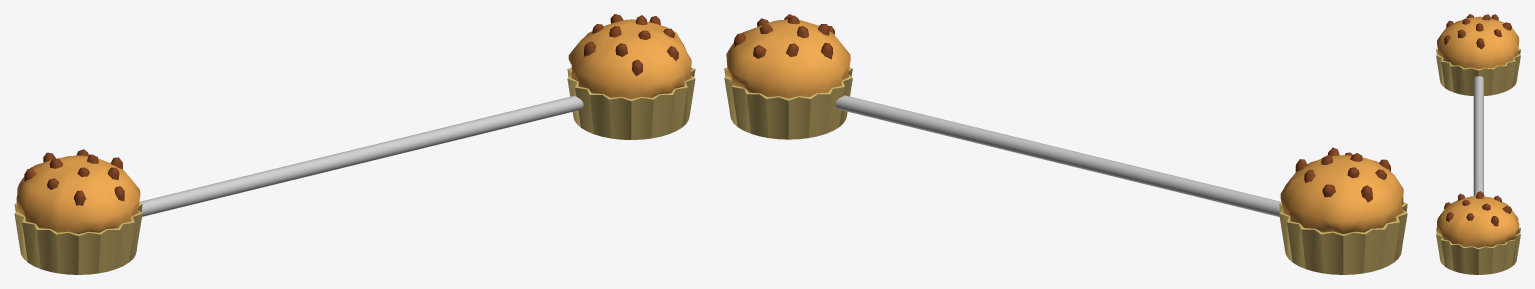
3 views of the same model, side by side, from view 1: azimuth 30°, elevation 25°; view 2: azimuth 150°, elevation 25°; view 3: azimuth 270°, elevation 25° (orthographic). The views are drawn at different scales.
Parts seen in each view (by area): view 1: muffin, Cylinder; view 2: muffin, Cylinder; view 3: muffin, Cylinder.
Boxes of the visible parts, x1,y1,x2,y2 form: muffin: (14,14,695,274); Cylinder: (139,95,583,216); muffin: (724,14,1407,274); Cylinder: (835,95,1281,216); muffin: (1436,14,1520,274); Cylinder: (1473,76,1483,196).
Bounding box in the file's own units: 1.82 × 0.2386 × 0.3035.
2 materials, 1 textured.
